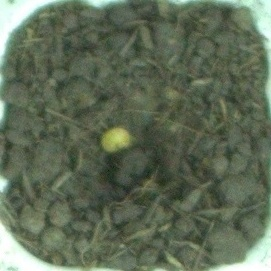chilli seed: (98, 126, 137, 154)
